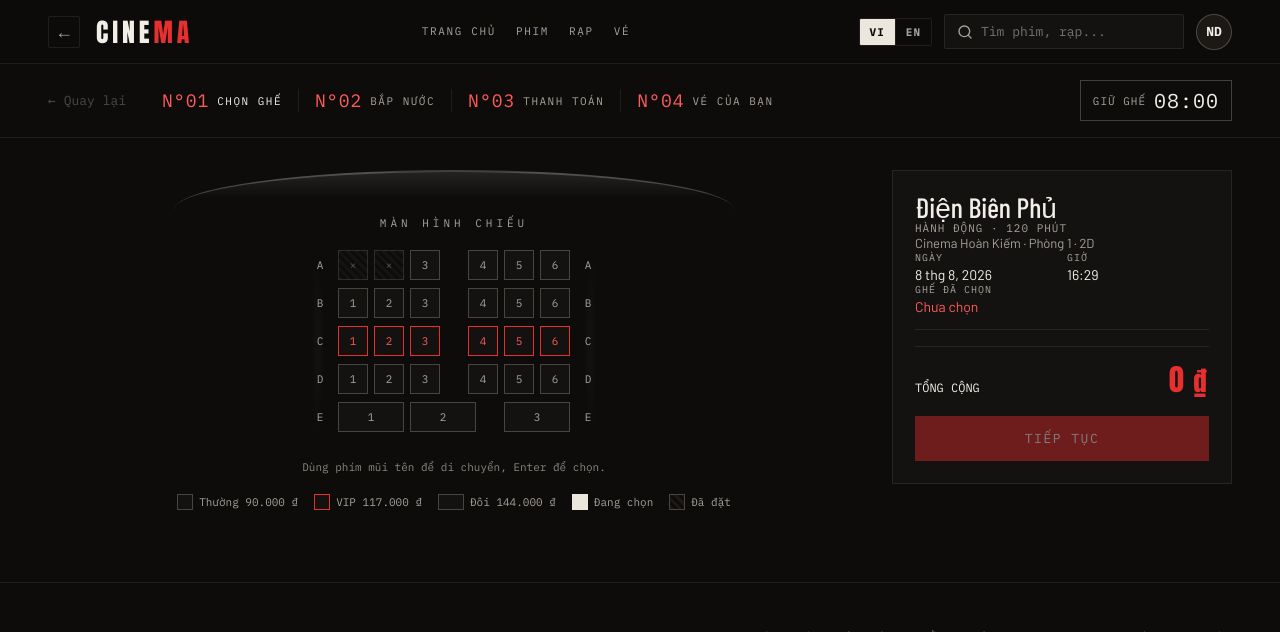
Test: BookingWizard — ghế bị người khác chiếm › ghế bị bán ngay trước khi bấm thanh toán thì huỷ đặt và quay về bước ①
Expected: the heading "Điện Biên Phủ" is shown, [915,190,1057,224]
Click the cell named "Ghế B1,": (353, 303) [338,288,368,318]
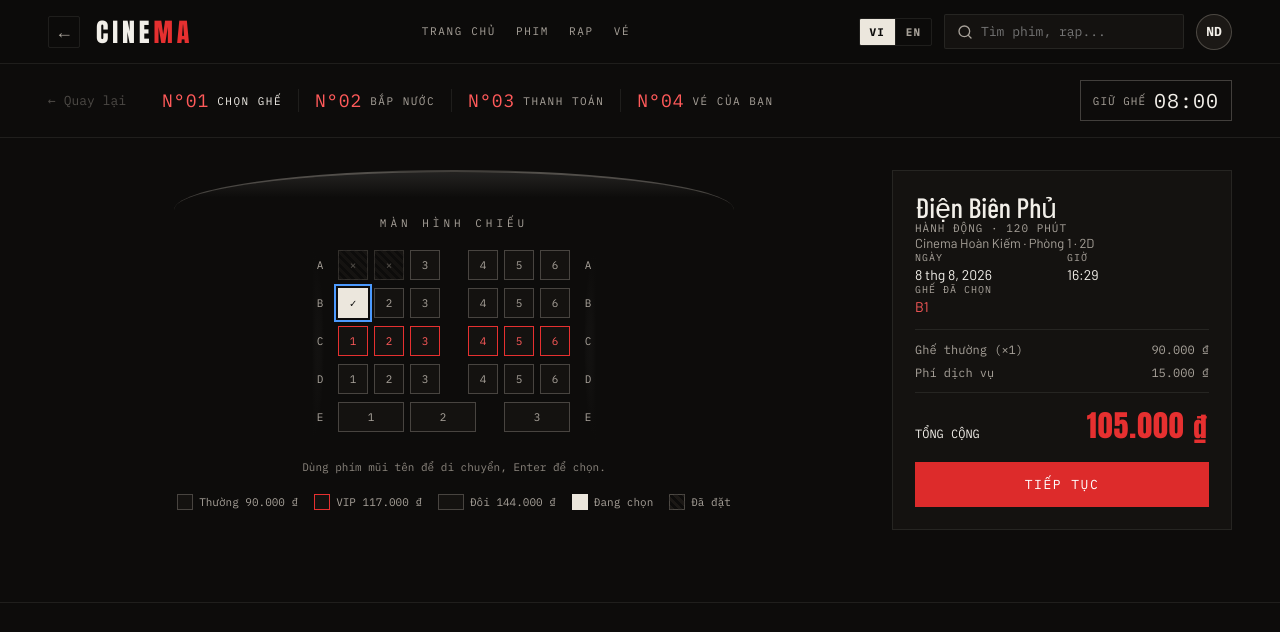
Click the button "Tiếp tục": (1062, 484) [915,462,1209,507]
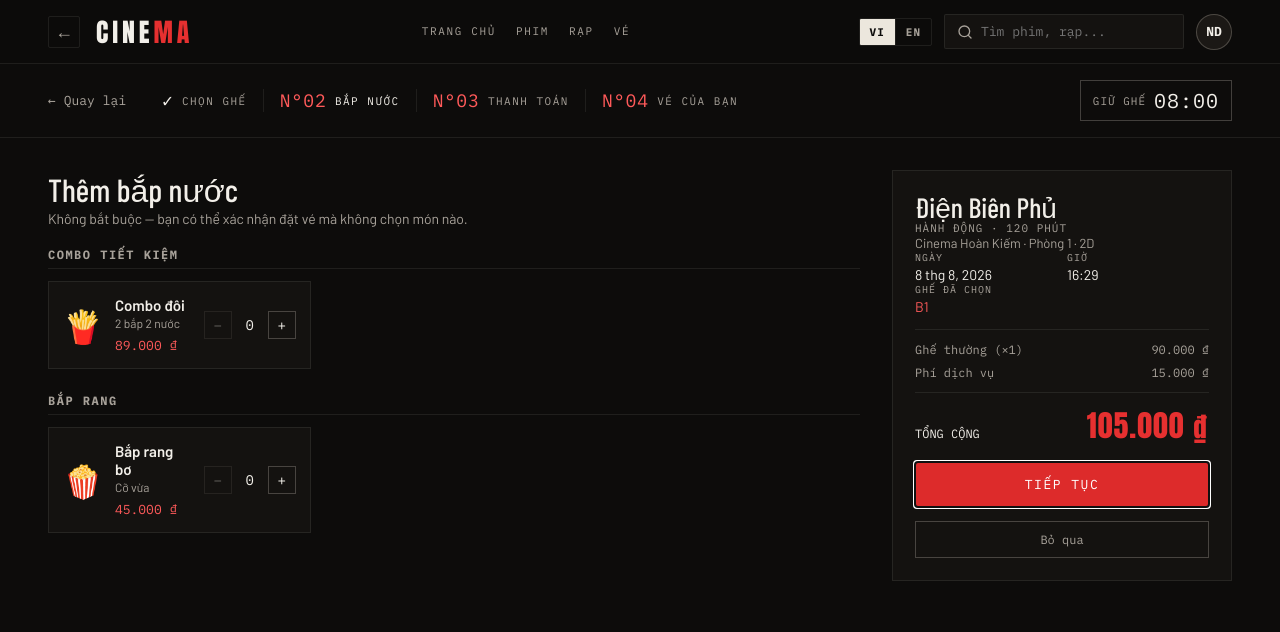
Click the button "Bỏ qua": (1062, 540) [915,521,1209,558]
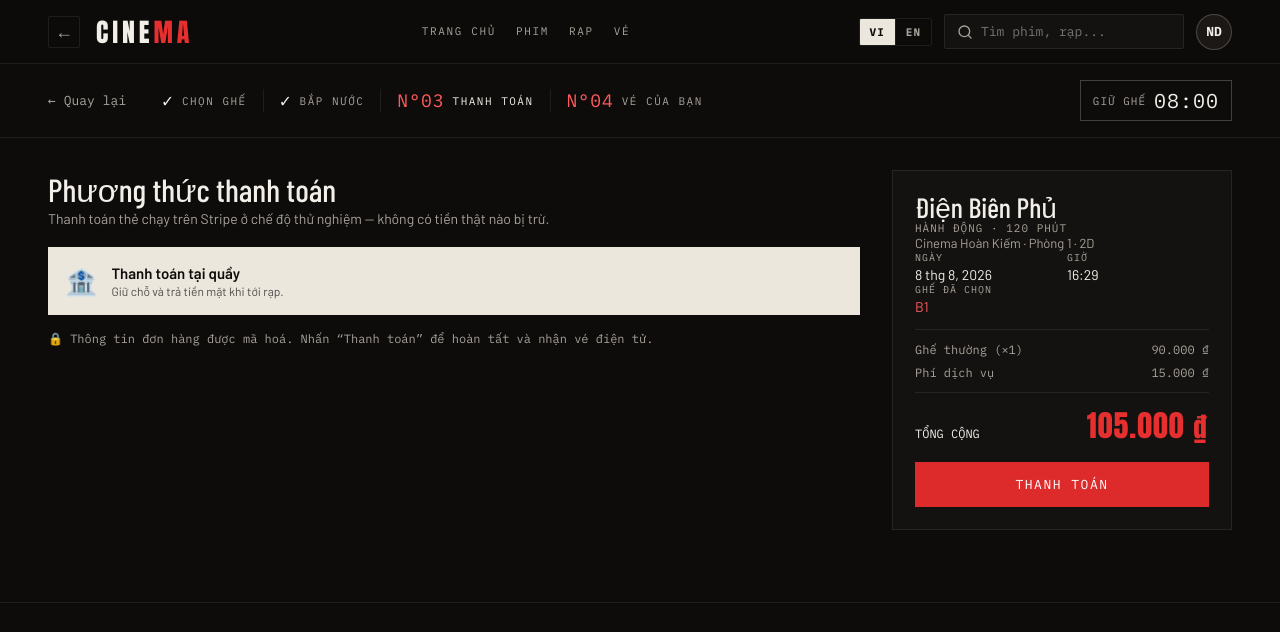
Now the heading "Phương thức thanh toán" is shown, box [48,170,336,208]
Click the button "Thanh toán": (1062, 484) [915,462,1209,507]
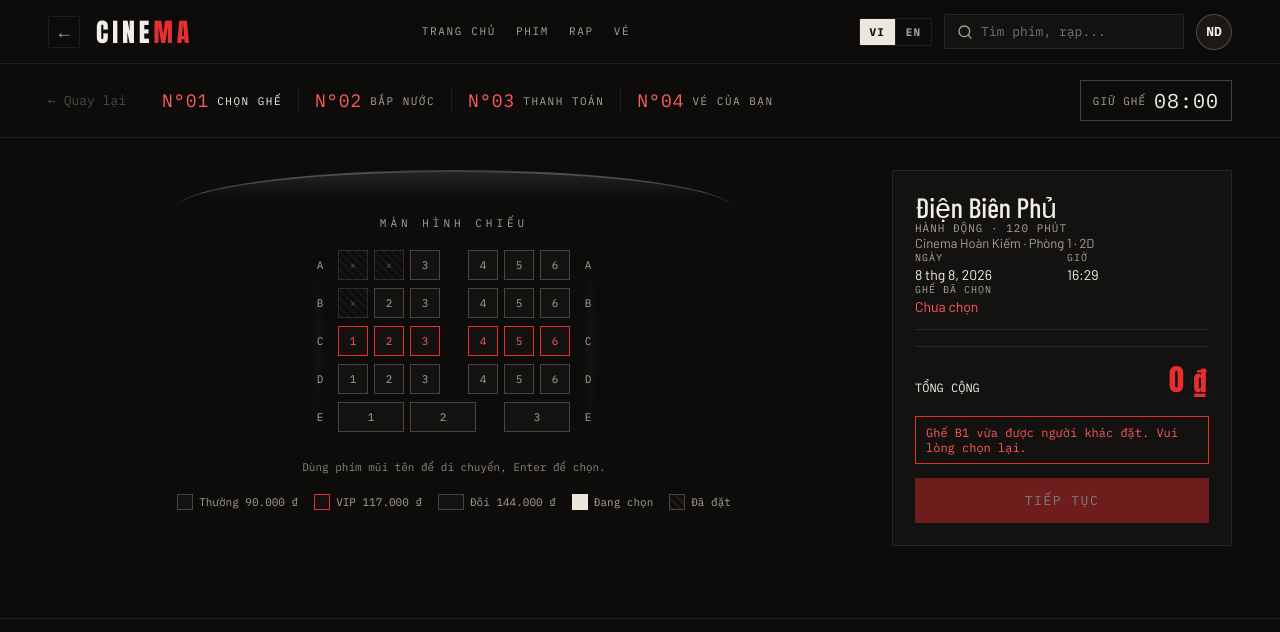
Now the text "Ghế B1 vừa được người khác đặt. Vui lòng chọn lại." is shown, box [915,416,1209,464]
Now the table is shown, box [312,250,596,432]
Now the text with class "os-k__seatlist" reads "Chưa chọn", box [915,298,978,315]
